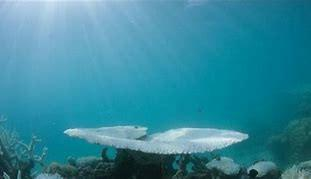bleached_corals: (63, 123, 249, 158), (0, 125, 47, 178)
